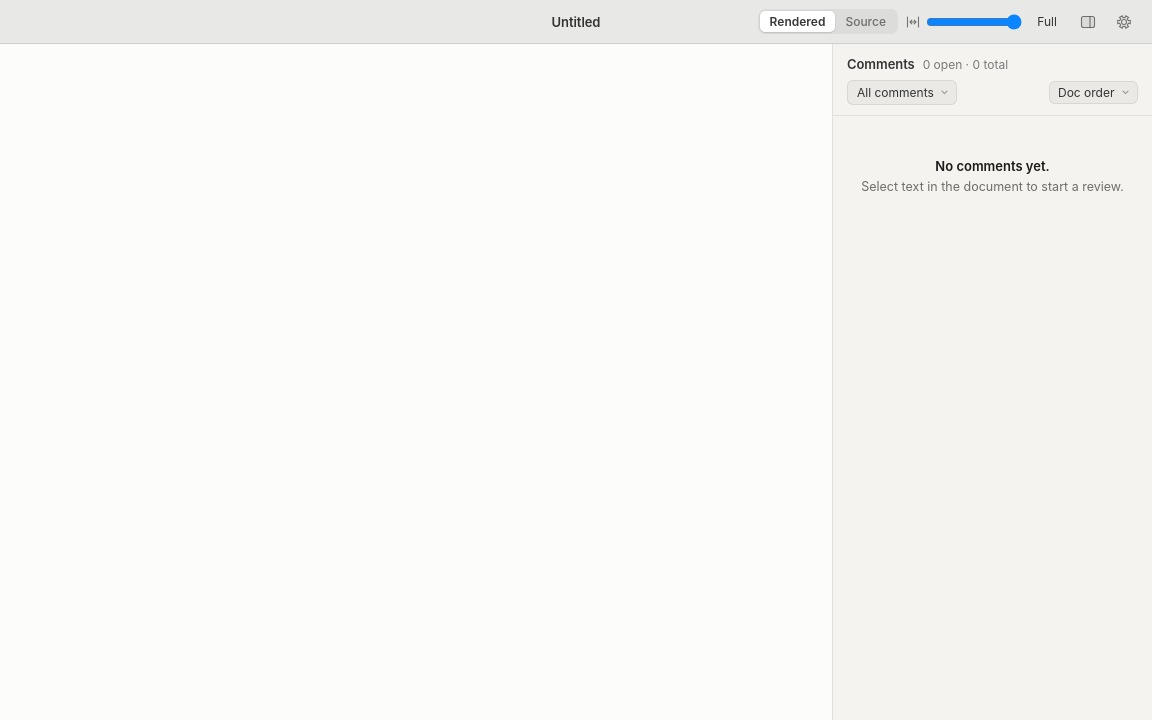
Test case: Settings → AI agents › shows a row per tool found, and the shared folder
Click the button with test id "fm-titlebar-settings" at (1124, 22), box [1110, 10, 1138, 34]
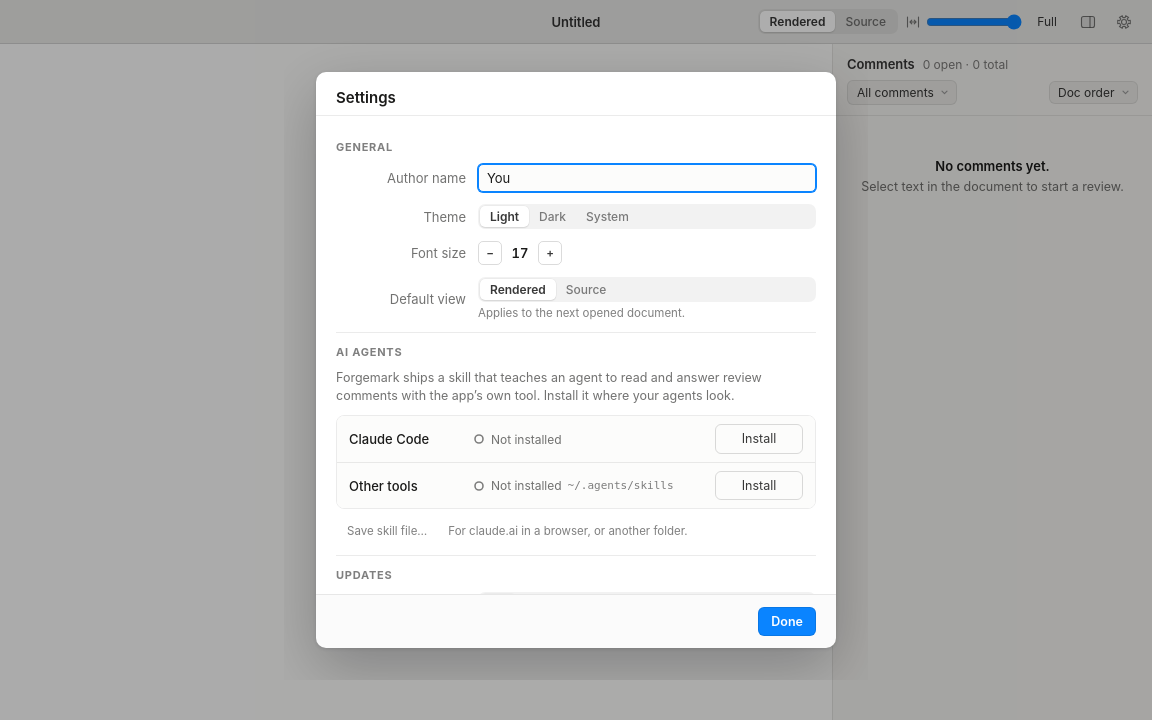
Check: the element with test id "fm-skill-rows" is shown, box [336, 415, 816, 509]
Check: the element with test id "fm-skill-status-claude-code" reads "Not installed", box [491, 432, 562, 446]
Check: the element with test id "fm-skill-status-agents" shows "~/.agents/skills", box [568, 479, 674, 492]
